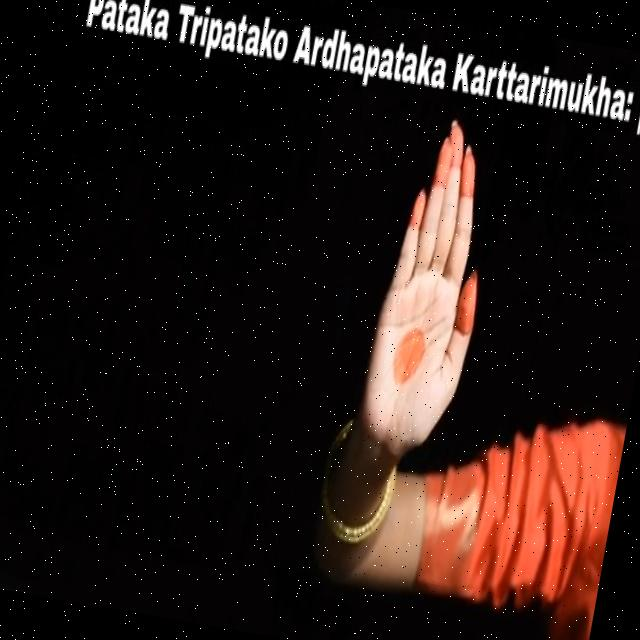Pataka: (298, 97, 532, 615)
bangle: (302, 424, 402, 556)
text: (76, 0, 640, 147)
